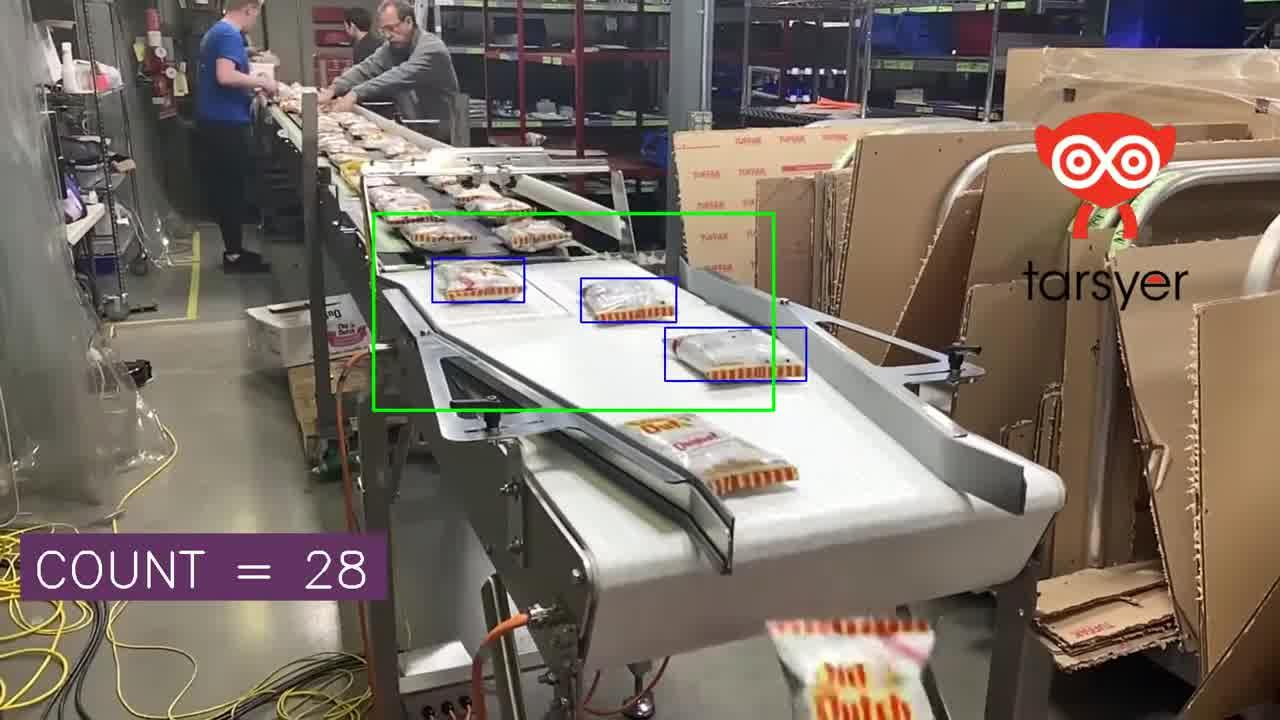Snack: (766, 618, 935, 719), (623, 414, 798, 496), (668, 329, 772, 380), (582, 279, 676, 322), (436, 260, 525, 301), (495, 218, 572, 252), (368, 185, 435, 224), (397, 222, 481, 252), (369, 183, 420, 208), (445, 184, 502, 206), (464, 197, 533, 212), (374, 137, 412, 158), (345, 120, 383, 139), (327, 148, 369, 165), (427, 176, 461, 195), (327, 112, 366, 128), (361, 174, 397, 187)
